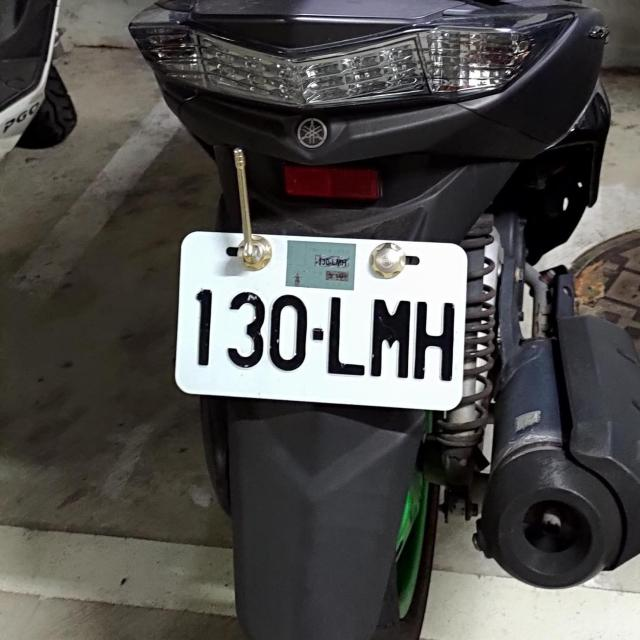W: (168, 232, 474, 411)
